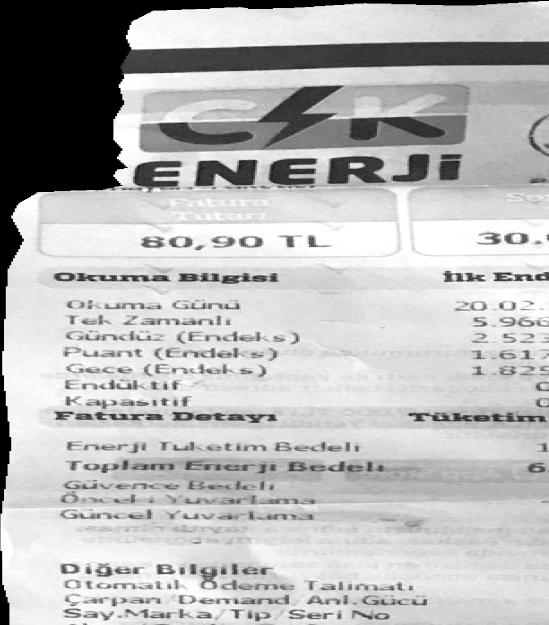electricity-bill: (0, 1, 549, 625)
